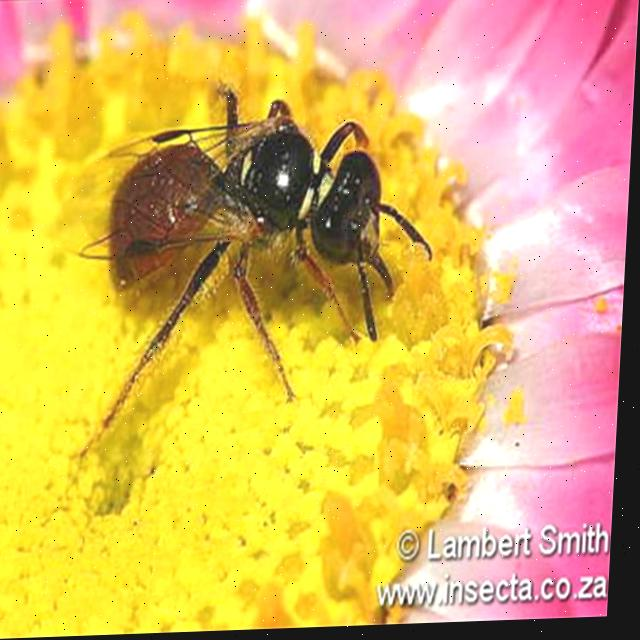Allodapula: (56, 63, 444, 485)
